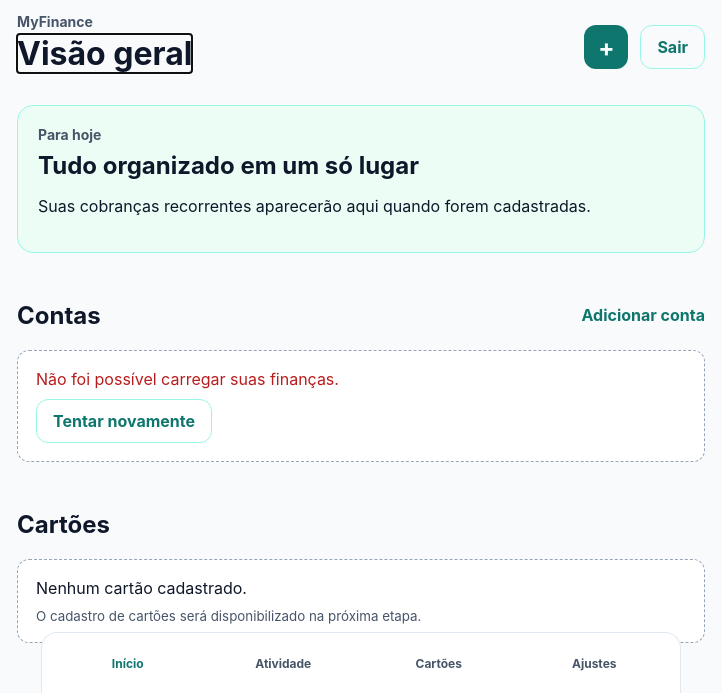
Test: Finance home data › offers a retry when overview loading fails
The width and height of the screenshot is (722, 693).
Expected: the message reads "Não foi possível carregar suas finanças.", top-left (36, 369), bottom-right (339, 389)
Click the button "Tentar novamente": [124, 421] box top-left (36, 399), bottom-right (212, 443)
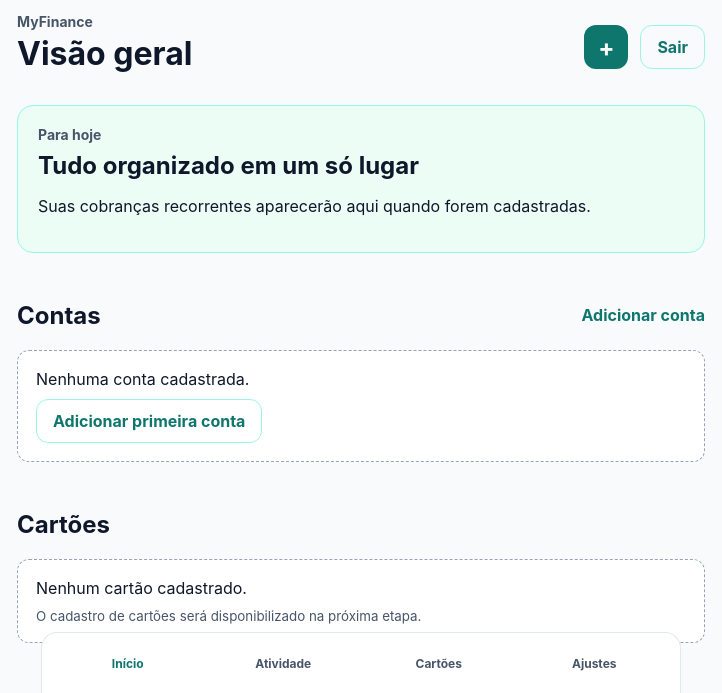
Result: the text "Nenhuma conta cadastrada." is shown at top-left (36, 369), bottom-right (249, 389)
